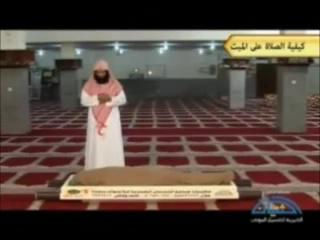qiyam: (80, 60, 127, 170)
